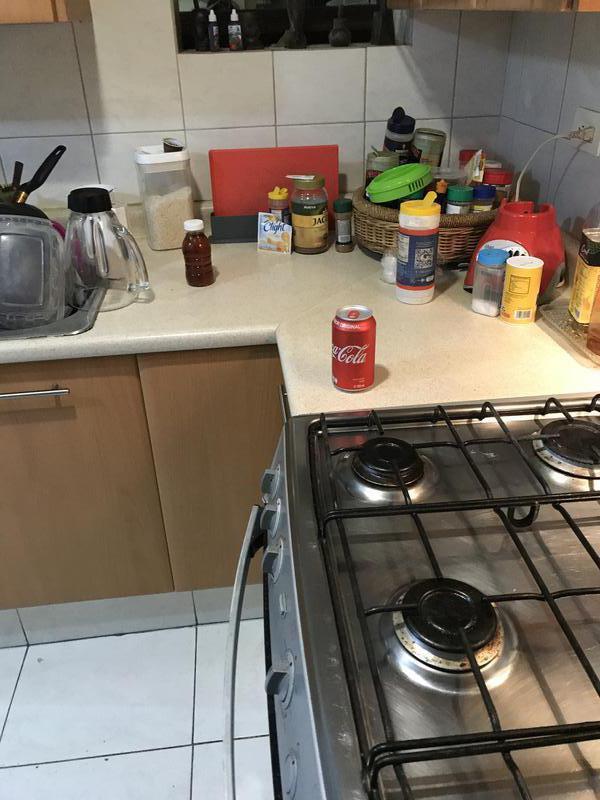coca_cola: (332, 307, 376, 392)
